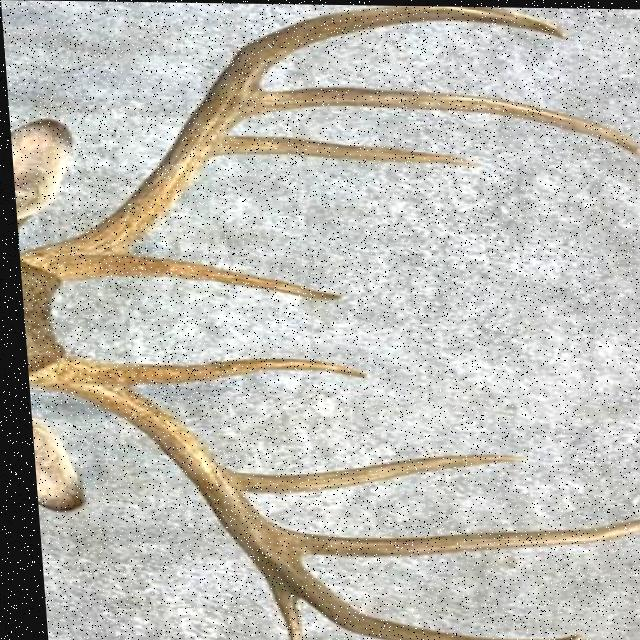L-F: (15, 5, 565, 282)
L-G1: (88, 254, 339, 300)
L-G2: (206, 134, 473, 167)
L-G3: (242, 85, 640, 156)
R-E1: (249, 563, 291, 640)
R-F: (22, 354, 568, 640)
R-G1: (87, 357, 361, 385)
R-G2: (216, 452, 518, 492)
R-G3: (266, 513, 640, 556)
